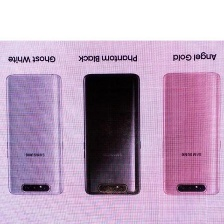phone: (158, 69, 224, 199), (79, 71, 145, 199), (4, 70, 66, 198)
